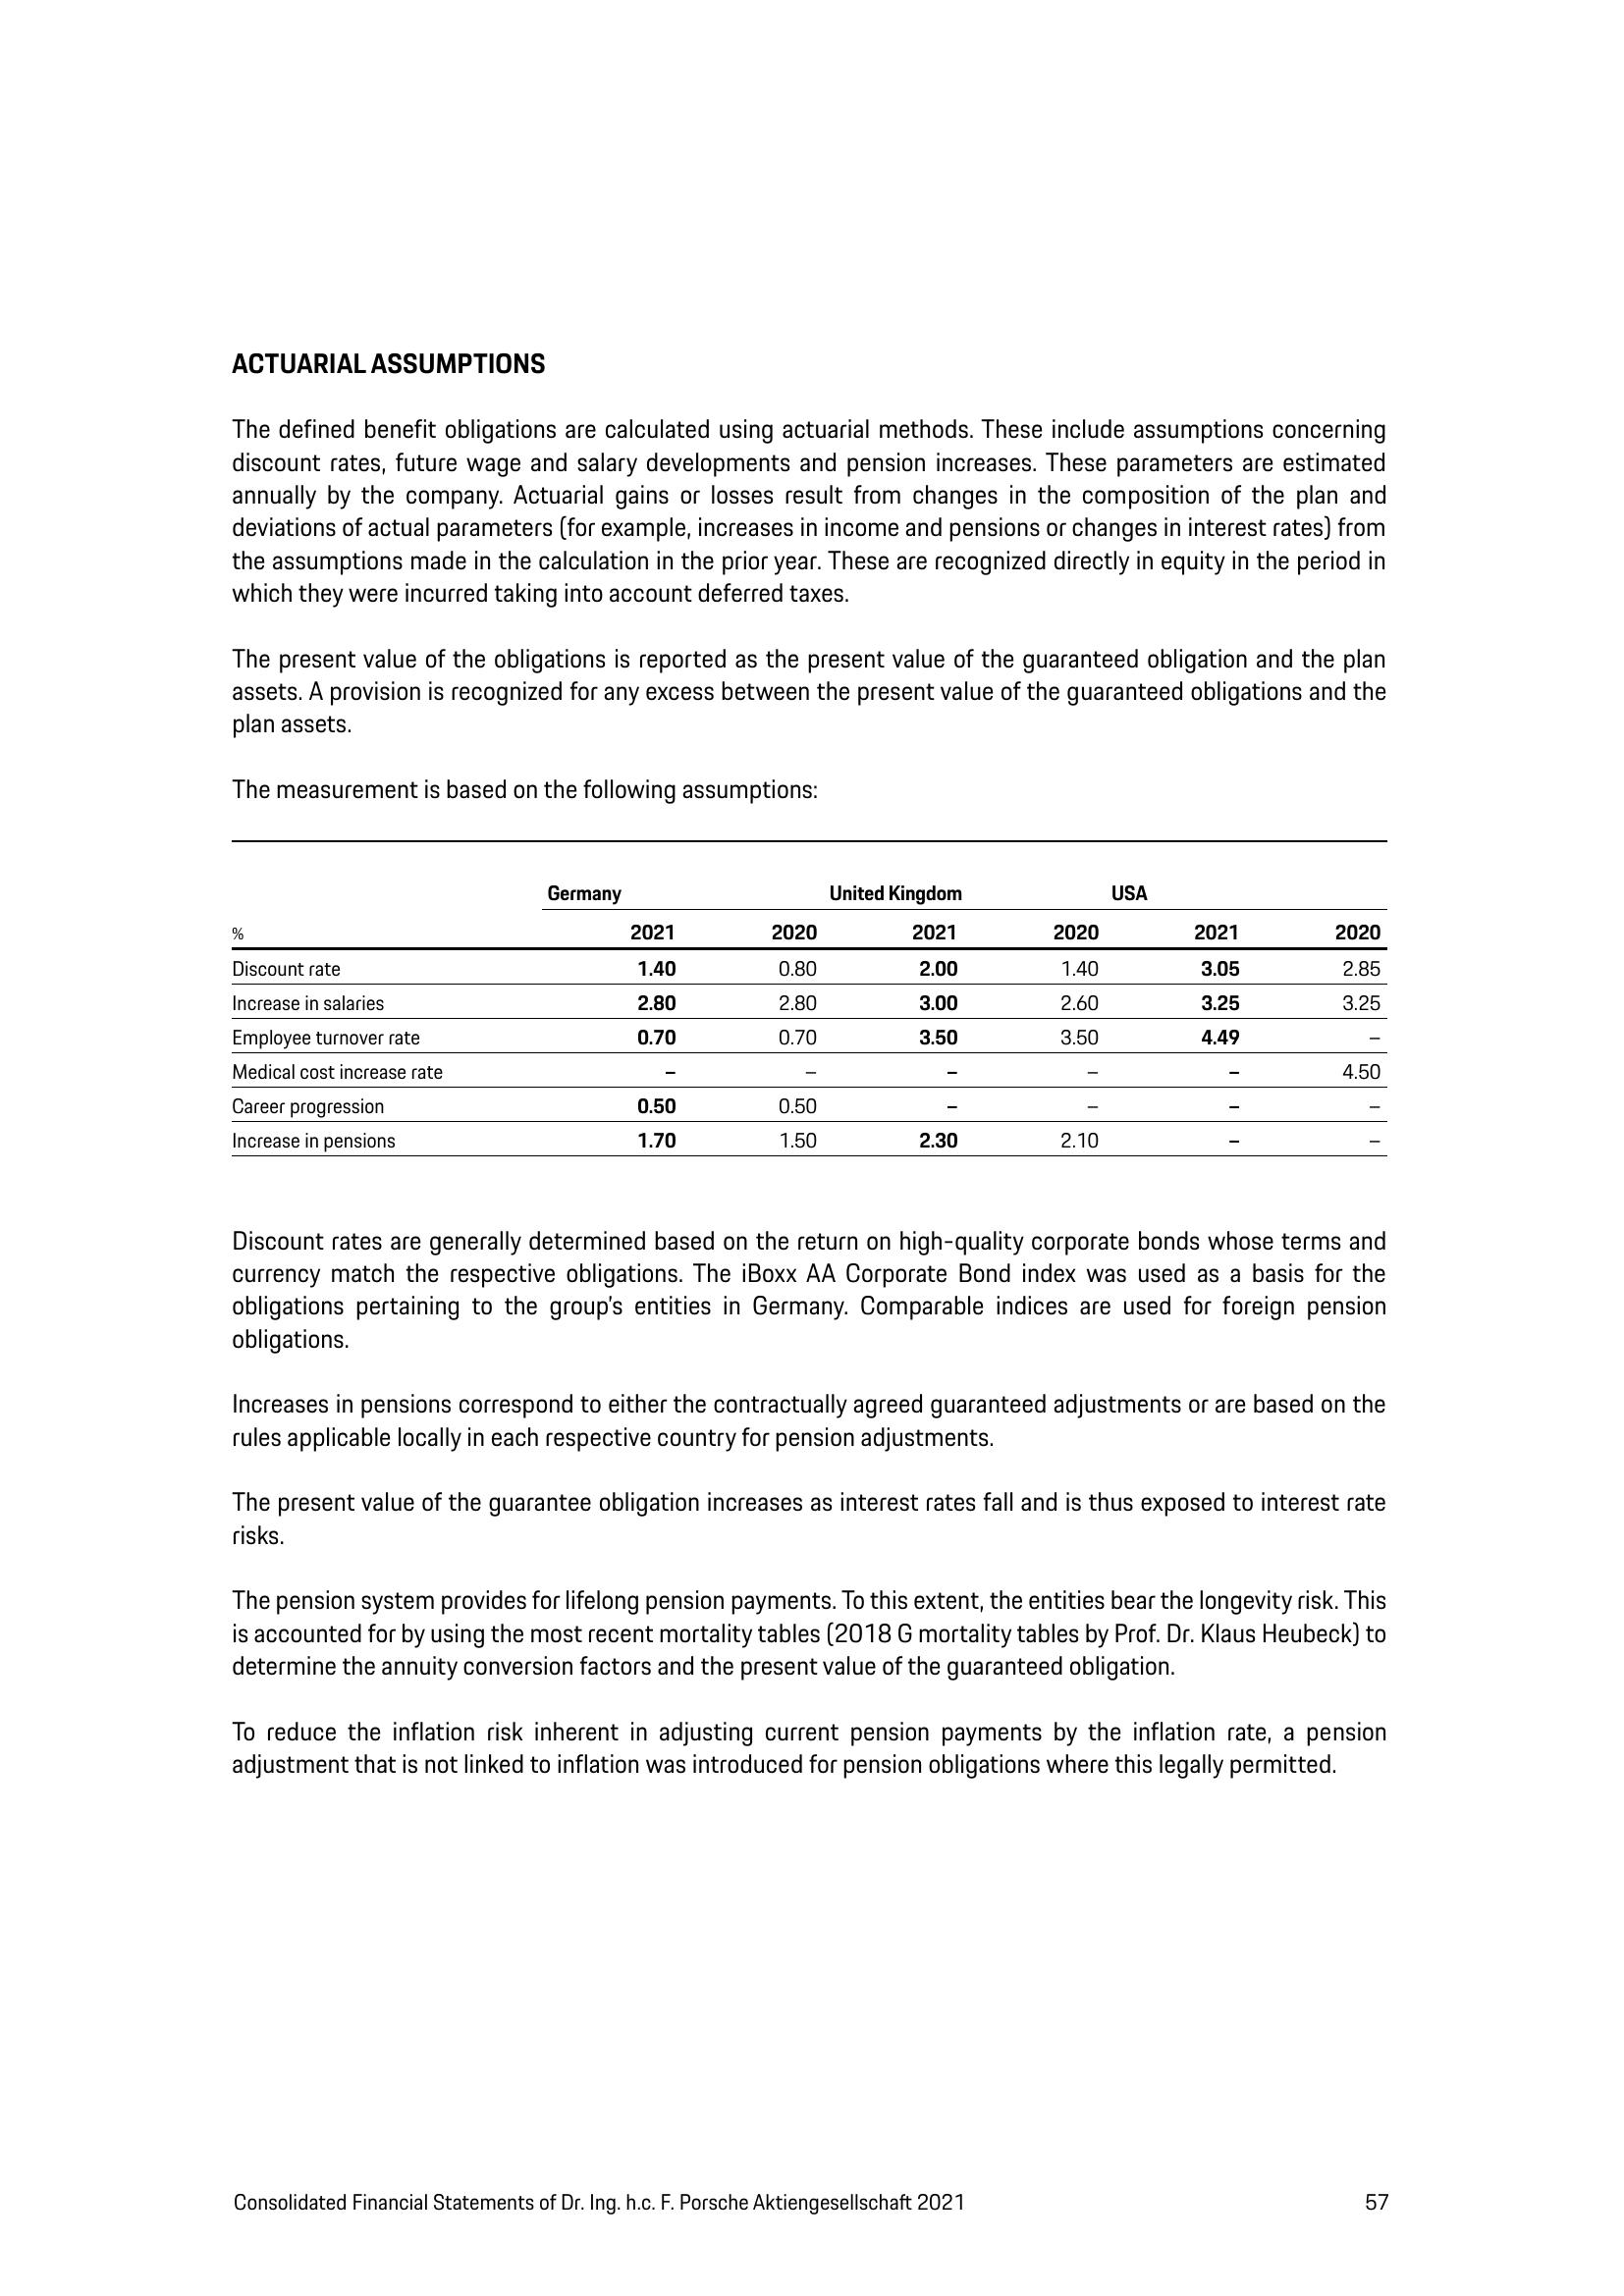Footer: (0, 2134, 1624, 2296)
Header: (0, 0, 1624, 188)
Table: (181, 841, 1434, 1163)
